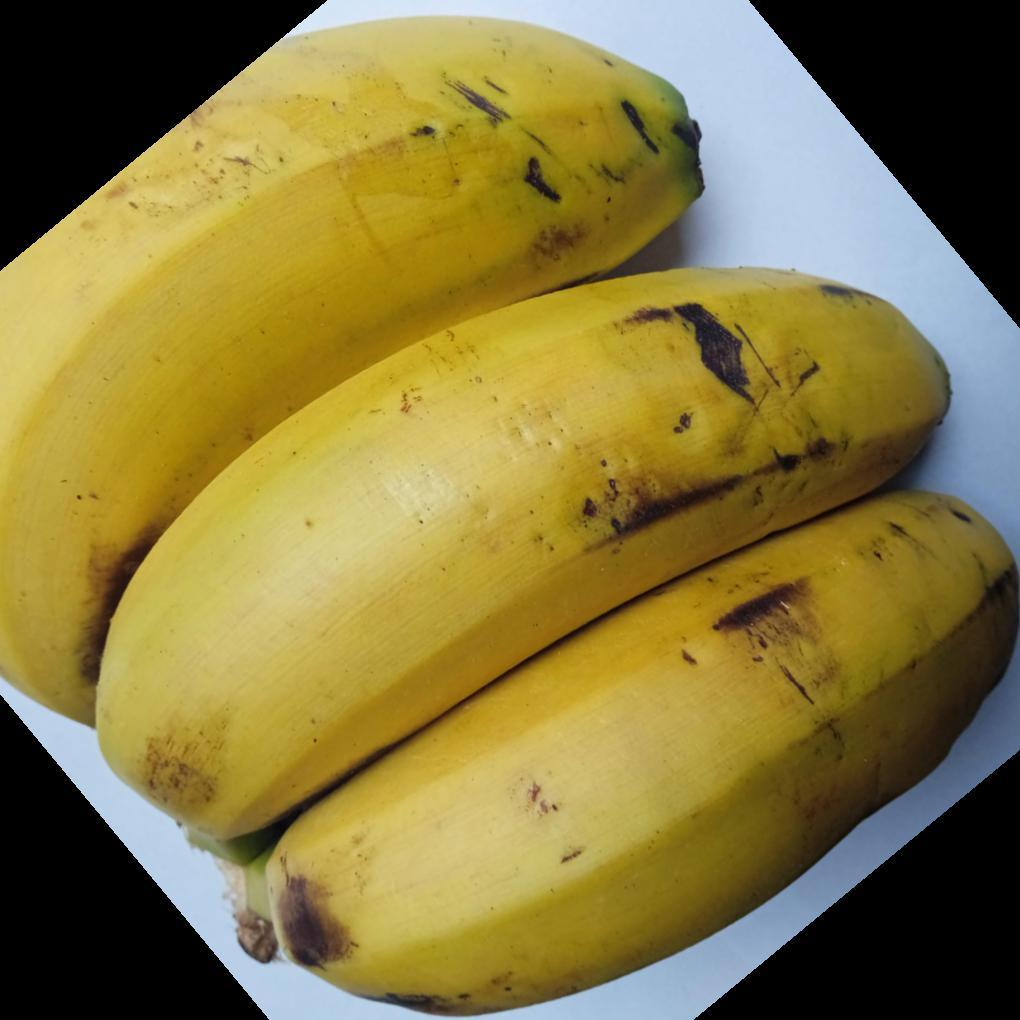Banana Ripe: (0, 0, 1020, 1007), (62, 267, 1020, 1020)
